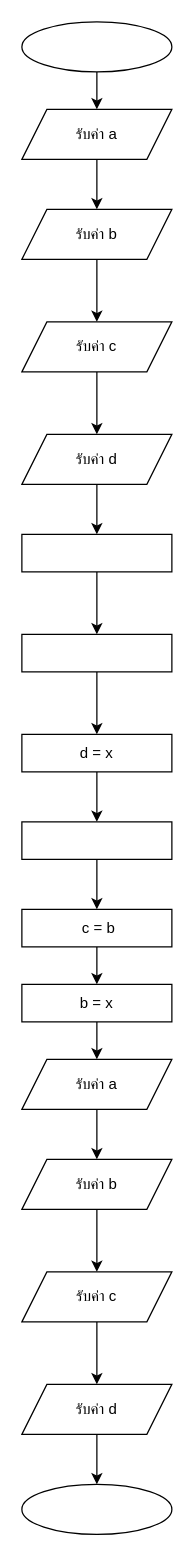
This 194x1556 diagram has some shape labels left out. The centre of each missing label's shape, as x and y in pixels:
"a = d" belongs at pixel 96 652.
"x = a" belongs at pixel 96 552.
"x = c" belongs at pixel 96 840.
"จบ" belongs at pixel 96 1508.
"เริ่ม" belongs at pixel 96 46.
